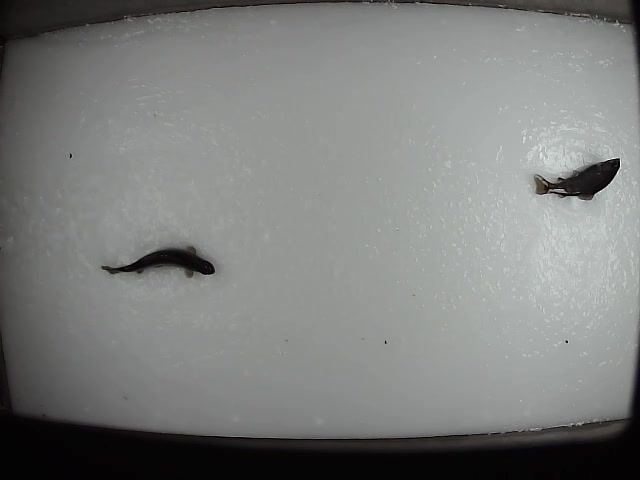Fish: (101, 245, 215, 278), (534, 157, 620, 200)
